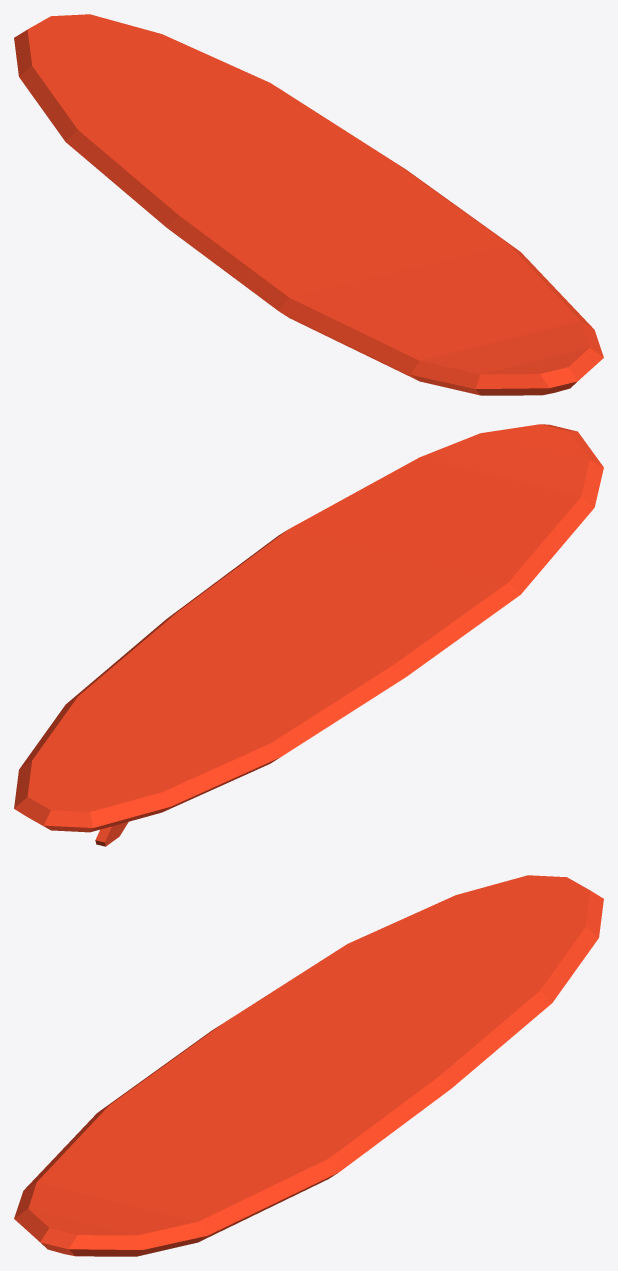
Rendered from SM_Surf_C_City.fbx.
The picture shows the model from 3 angles, top to bottom: view 1: azimuth 30°, elevation 25°; view 2: azimuth 150°, elevation 25°; view 3: azimuth 330°, elevation 25°; orthographic projection.
Parts seen in each view (by area): view 1: SM_Surf_C_City; view 2: SM_Surf_C_City; view 3: SM_Surf_C_City.
Part boxes in pixels (<box>): SM_Surf_C_City: <box>14,14,603,395</box>; SM_Surf_C_City: <box>14,424,603,846</box>; SM_Surf_C_City: <box>14,875,603,1256</box>.
Size of the model in its own units: 0.7493 by 0.258 by 2.78.
